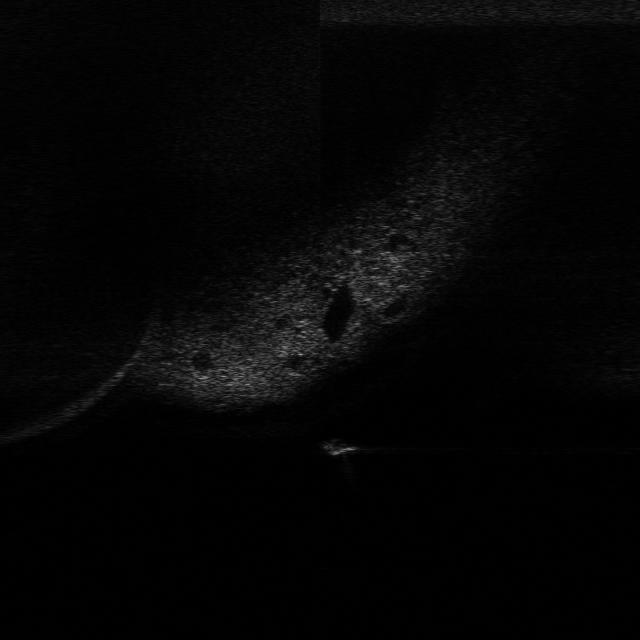cube: (313, 435, 363, 458)
